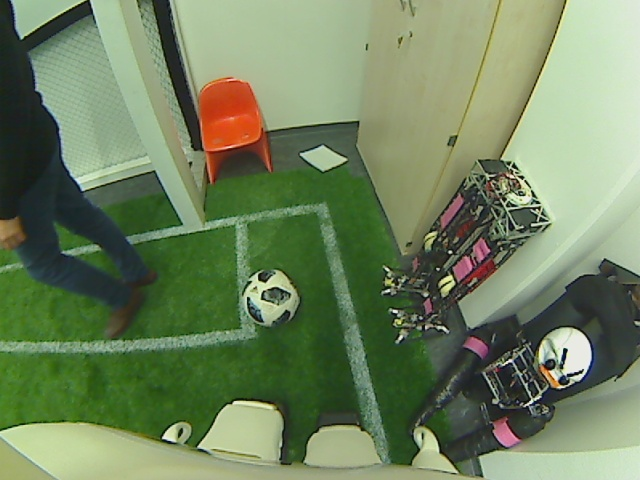ball: (240, 266, 301, 330)
